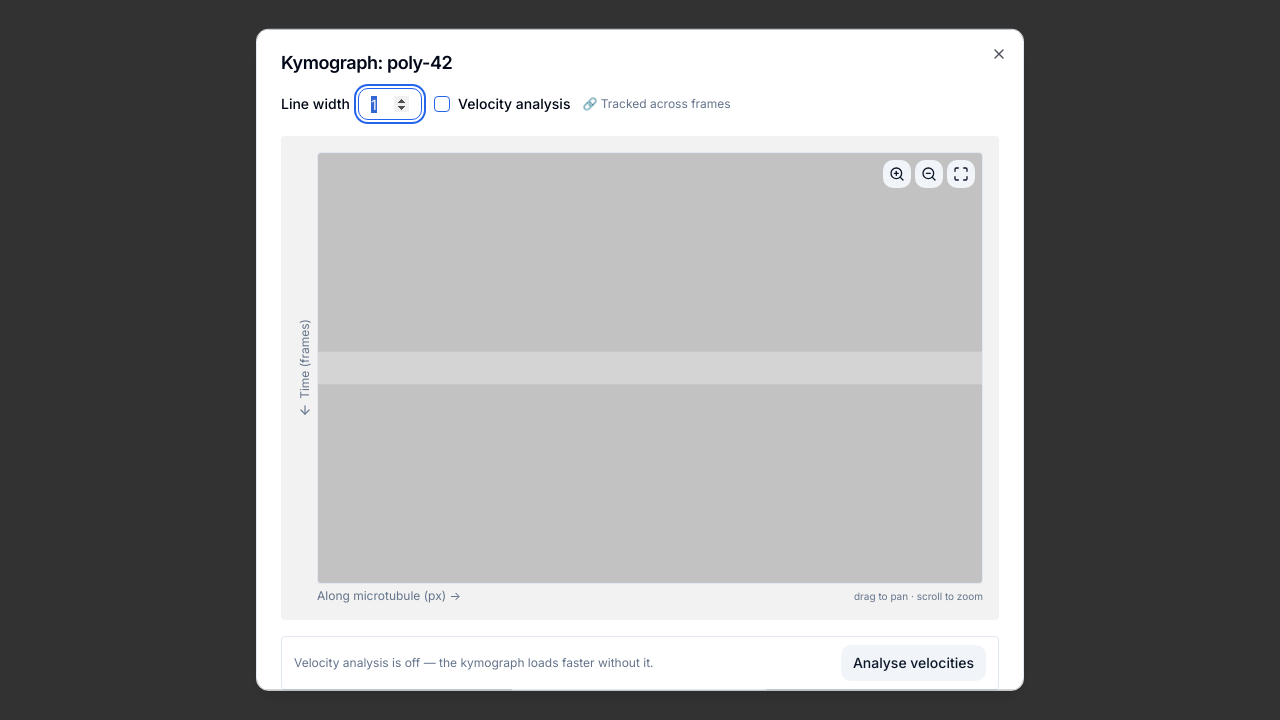
KymographModal › Velocity analysis is opt-in › lets the user clear a single-digit intensity width
The width and height of the screenshot is (1280, 720).
Later steps or results of the test are not shown.
Click the button "Analyse velocities": (913, 663) [841,645,986,681]
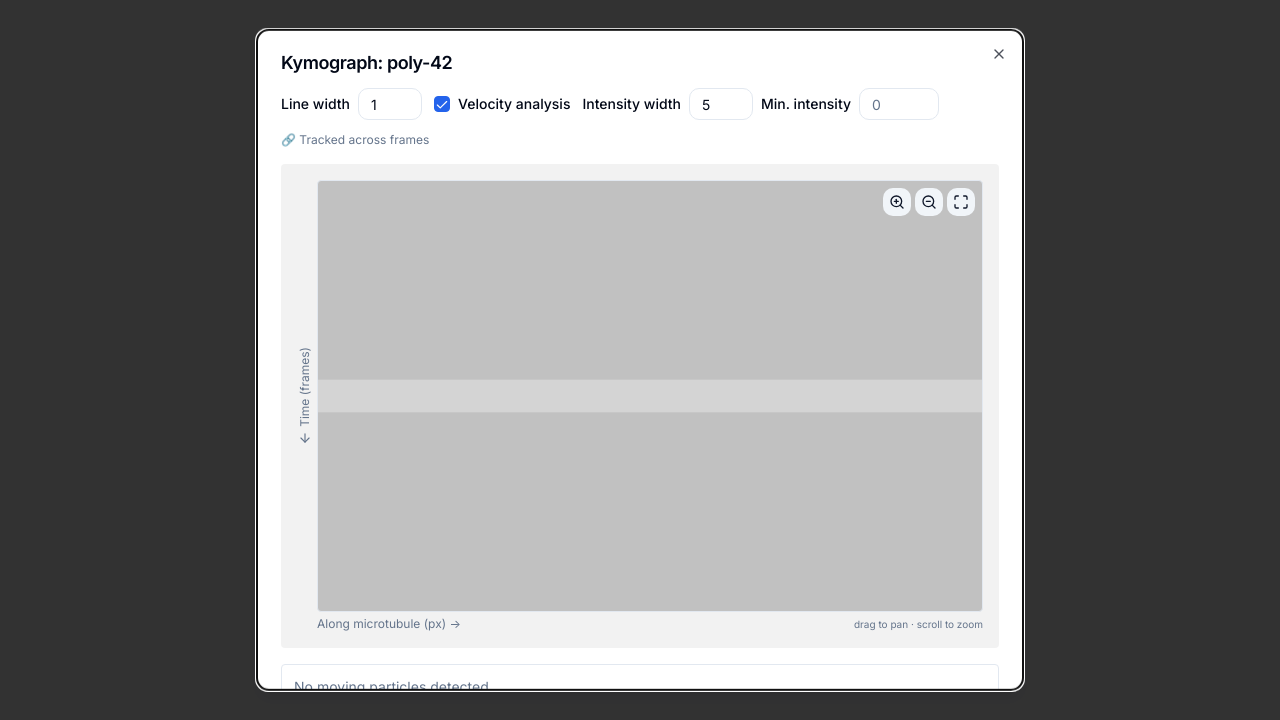
Now the number field labelled "Intensity width" holds "5", box [689,88,753,120]
